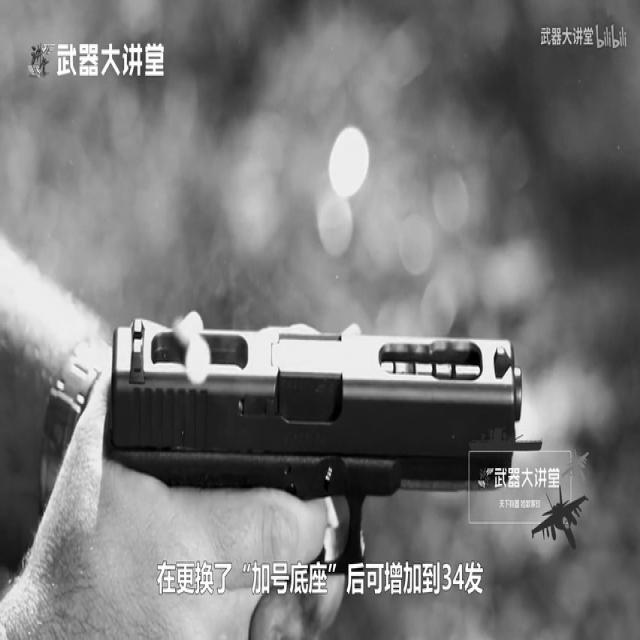Hand-Gun: (69, 188, 582, 640)
